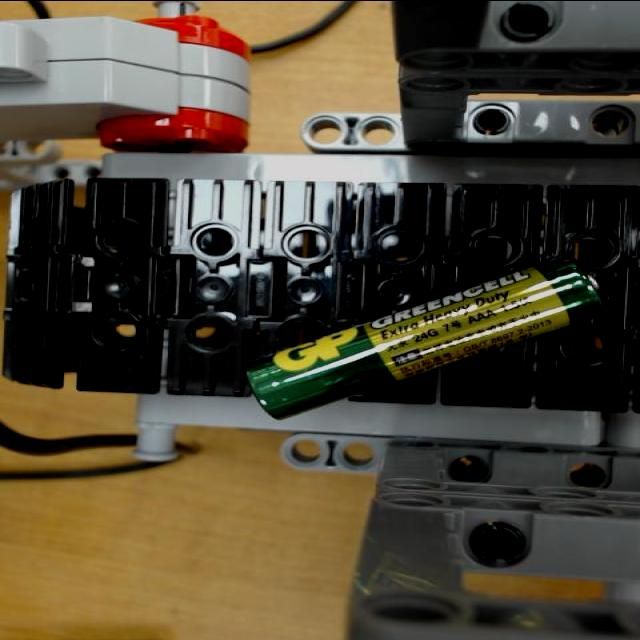AAA: (243, 264, 608, 421)
